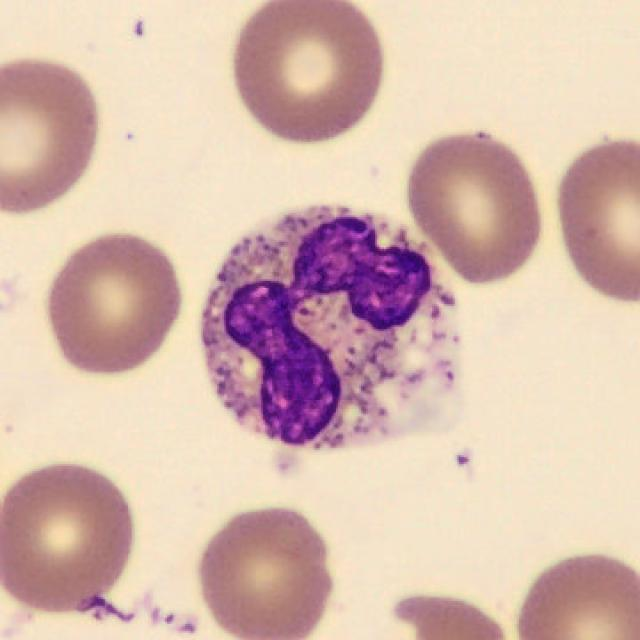Neutrofilo segmentado: (199, 204, 462, 453)
